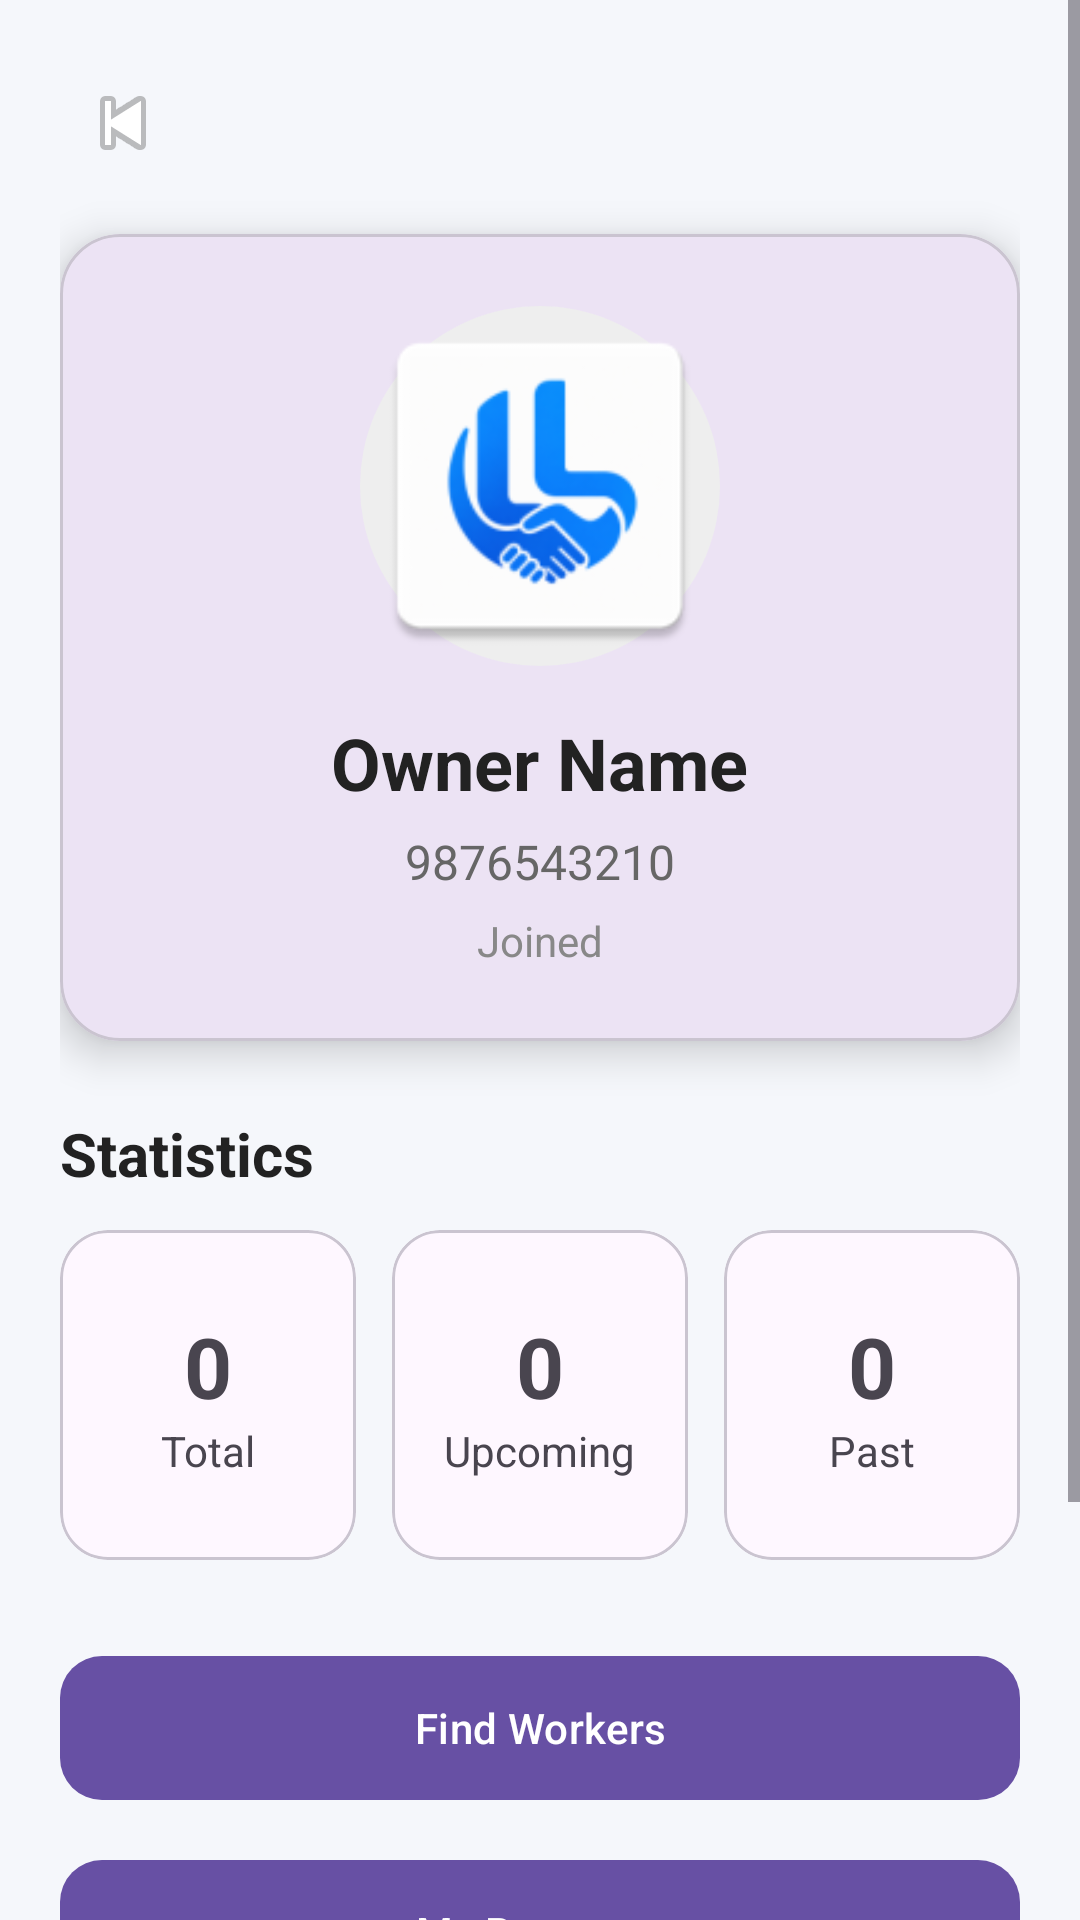

Point at icon controls on the screen. Image size 1080 x 1920, points as [x,y].
Back: [123,123]
